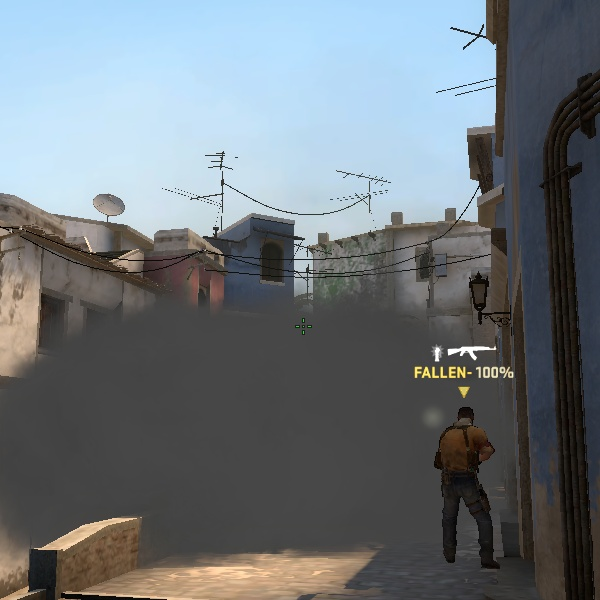t_body: (421, 397, 517, 575)
t_head: (450, 400, 482, 431)
